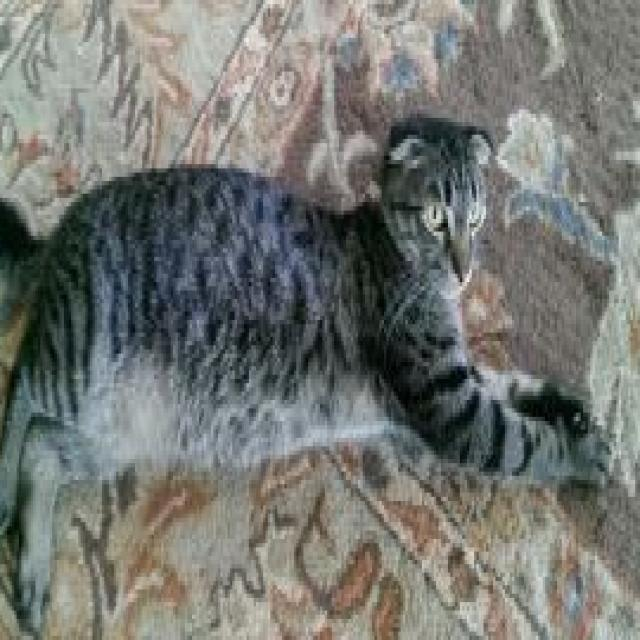Scottish Fold: (0, 105, 614, 640)
